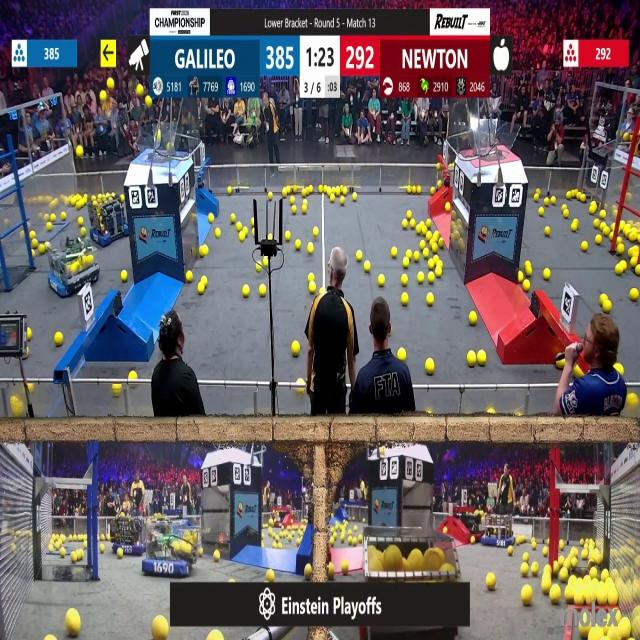ball_airborne: (155, 618, 170, 640), (100, 91, 108, 102), (76, 145, 83, 157), (137, 86, 144, 97), (107, 78, 114, 89), (165, 143, 172, 154), (145, 97, 151, 107), (624, 134, 629, 142), (155, 131, 160, 138)
ball_ground: (68, 611, 81, 638), (522, 587, 532, 607), (551, 586, 562, 604), (486, 572, 496, 590), (564, 588, 573, 603), (628, 394, 638, 407), (426, 358, 434, 374), (267, 568, 276, 582), (56, 333, 64, 348), (467, 351, 475, 366), (291, 342, 299, 357), (209, 631, 222, 640), (478, 351, 486, 365), (305, 564, 313, 578), (560, 568, 568, 582), (630, 288, 639, 300), (468, 313, 476, 326), (522, 563, 530, 576), (540, 581, 548, 594), (400, 292, 408, 304), (426, 293, 434, 305), (397, 348, 405, 360), (258, 284, 266, 296), (602, 302, 610, 314), (378, 275, 386, 287), (617, 264, 625, 276), (418, 273, 426, 284), (574, 365, 582, 376), (243, 285, 250, 297), (531, 562, 538, 574), (342, 560, 349, 572), (525, 266, 532, 278), (201, 246, 209, 256), (630, 256, 638, 266), (112, 384, 120, 394), (328, 563, 334, 576), (185, 272, 192, 283), (308, 243, 315, 254), (400, 275, 407, 286), (213, 552, 220, 563), (356, 250, 363, 261), (428, 273, 435, 284), (618, 363, 625, 374), (524, 280, 530, 292), (402, 256, 408, 268), (310, 282, 316, 294), (200, 277, 208, 286), (542, 270, 549, 280), (120, 272, 127, 282), (363, 263, 370, 273), (571, 220, 578, 230), (198, 284, 205, 294), (434, 268, 441, 278), (557, 359, 564, 369), (284, 232, 291, 242), (618, 244, 625, 254), (445, 203, 452, 213), (432, 254, 439, 264), (589, 205, 596, 215), (27, 328, 33, 339), (596, 235, 602, 246), (414, 251, 420, 262), (428, 261, 434, 272), (516, 273, 522, 284), (523, 553, 530, 562), (130, 370, 137, 379), (423, 249, 430, 258), (543, 565, 550, 574), (507, 544, 513, 554), (294, 240, 300, 250), (583, 242, 589, 252), (313, 228, 319, 238), (571, 558, 577, 568), (72, 552, 78, 562), (264, 256, 270, 266), (426, 232, 432, 242), (602, 225, 608, 235), (554, 561, 560, 571), (302, 206, 309, 214), (296, 378, 303, 386), (296, 388, 304, 395), (391, 247, 396, 258), (543, 226, 549, 235), (237, 221, 243, 230), (401, 219, 407, 228), (407, 249, 413, 258), (410, 219, 416, 228), (608, 232, 614, 241), (635, 267, 640, 277), (542, 546, 547, 556), (416, 224, 421, 234), (488, 409, 495, 416), (538, 208, 544, 216), (309, 274, 315, 282), (39, 246, 45, 254), (420, 241, 426, 249), (61, 550, 67, 558), (536, 196, 542, 204), (231, 214, 237, 222), (32, 240, 38, 248), (594, 220, 600, 228), (320, 286, 326, 294), (517, 536, 523, 544), (199, 550, 205, 558), (342, 187, 348, 195), (215, 230, 220, 239), (291, 206, 296, 215), (600, 292, 605, 301), (440, 240, 445, 249), (78, 217, 83, 226), (342, 537, 347, 546), (432, 244, 437, 253), (600, 210, 605, 219), (559, 540, 564, 549), (61, 213, 67, 220), (430, 187, 436, 194), (562, 204, 568, 211), (564, 210, 569, 218), (470, 536, 475, 544), (209, 214, 214, 222), (250, 218, 255, 226), (119, 551, 124, 559), (341, 198, 346, 206), (255, 266, 260, 274), (269, 191, 274, 199), (240, 234, 245, 242), (352, 192, 357, 200), (408, 210, 413, 218), (269, 234, 274, 242), (46, 222, 51, 230), (329, 193, 334, 201), (426, 219, 431, 227), (282, 189, 287, 197), (579, 195, 584, 203), (417, 185, 422, 193), (76, 202, 81, 210), (532, 540, 536, 549), (231, 577, 237, 583), (290, 197, 294, 206), (46, 635, 53, 640), (552, 198, 557, 205), (80, 227, 85, 234), (31, 233, 36, 240), (617, 237, 622, 244), (544, 198, 548, 206), (227, 186, 231, 194), (50, 214, 54, 222), (244, 224, 248, 232), (566, 194, 570, 202), (352, 536, 356, 544), (437, 183, 441, 190), (32, 250, 36, 257), (296, 537, 300, 544), (359, 538, 363, 545), (99, 546, 102, 554), (444, 528, 448, 534), (83, 541, 87, 547), (273, 542, 277, 548), (354, 526, 358, 532), (106, 534, 110, 540)
goal: (465, 122, 521, 160), (127, 129, 188, 161)
robot_blue: (47, 239, 100, 301), (141, 520, 194, 578), (89, 192, 129, 247), (108, 514, 144, 556), (481, 514, 514, 548)
robot_red: (460, 511, 485, 539)
